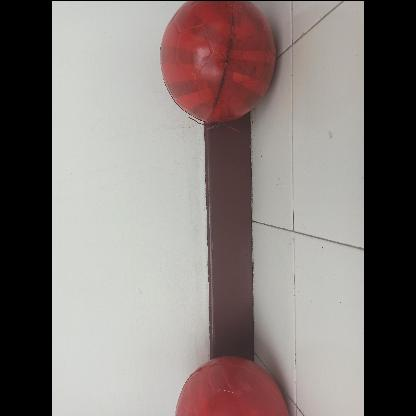red_ball: (154, 1, 279, 116)
